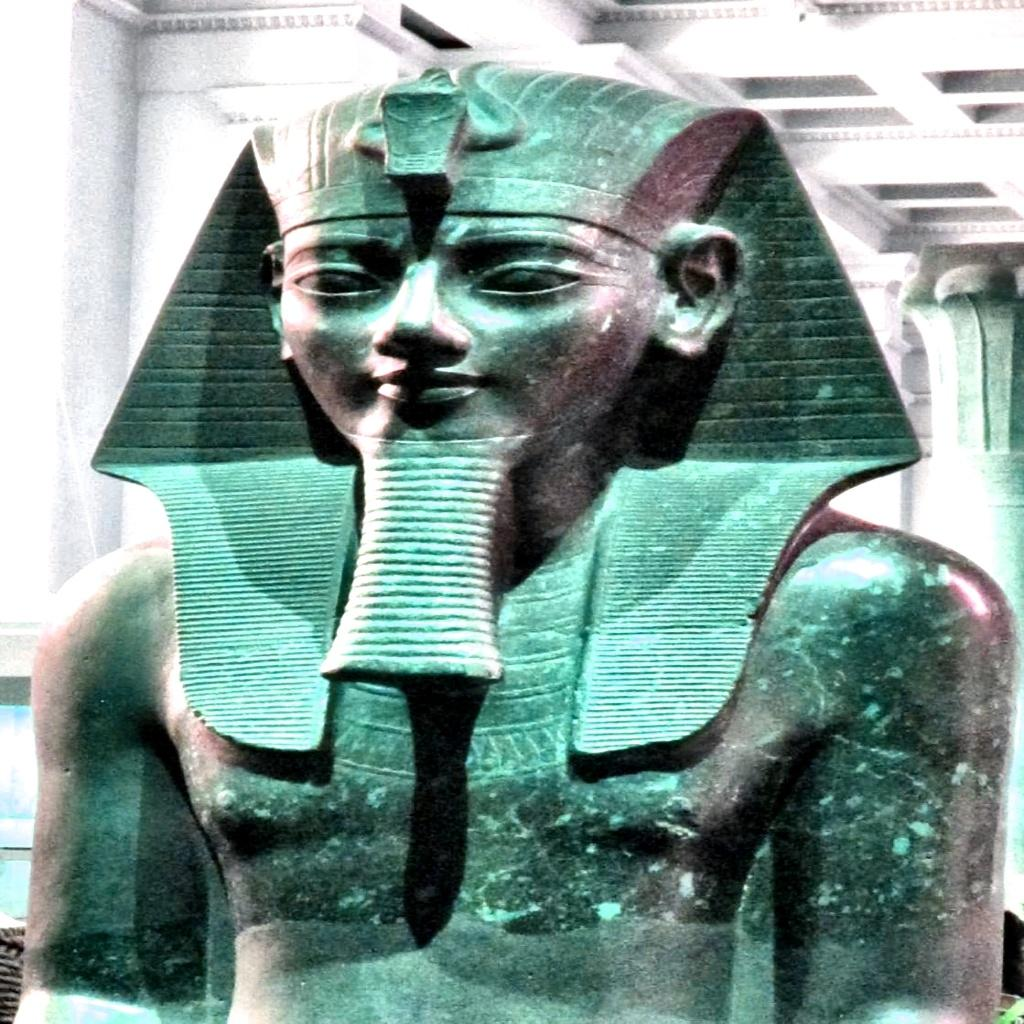Amenhotep III: (16, 58, 1014, 1018)
